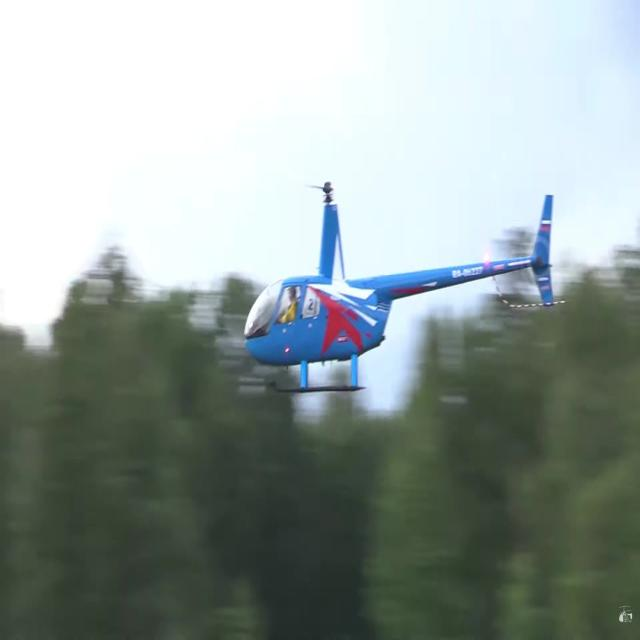CIV_HELO: (241, 179, 555, 396)
